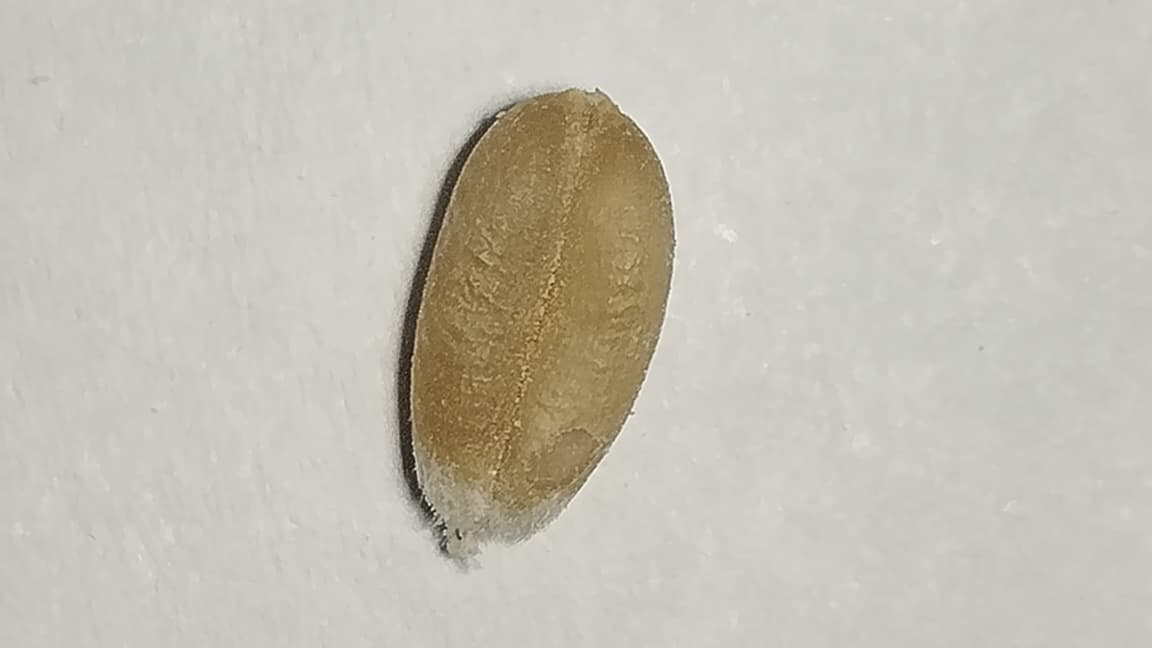damage: (398, 88, 675, 546)
insectdamage: (506, 390, 614, 538)
